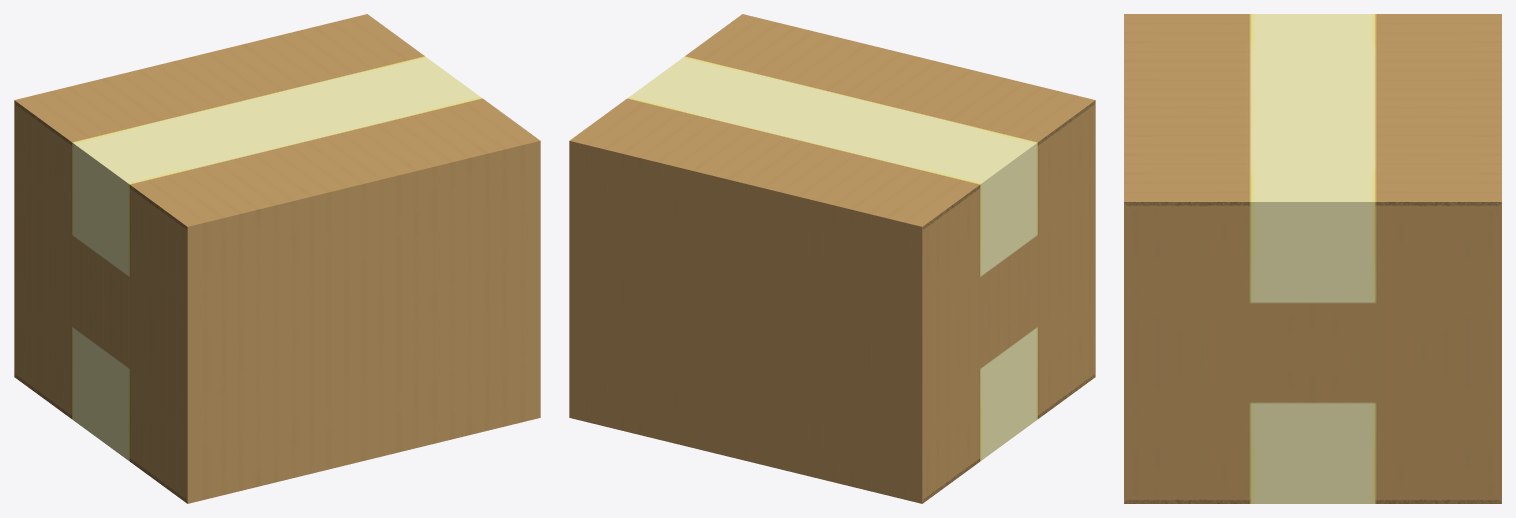
3 renders of one model, left to right at view 1: azimuth 30°, elevation 25°; view 2: azimuth 150°, elevation 25°; view 3: azimuth 270°, elevation 25°, orthographic. The views are drawn at different scales.
Visible parts, largest first — view 1: Box_1; view 2: Box_1; view 3: Box_1.
Part boxes in pixels (left/top/right/bottom): Box_1: left=14, top=14, right=540, bottom=503; Box_1: left=569, top=14, right=1095, bottom=503; Box_1: left=1124, top=14, right=1501, bottom=503.
Size of the model in its own units: 0.4 by 0.3 by 0.34.
Materials: 1 (1 with a texture image).
